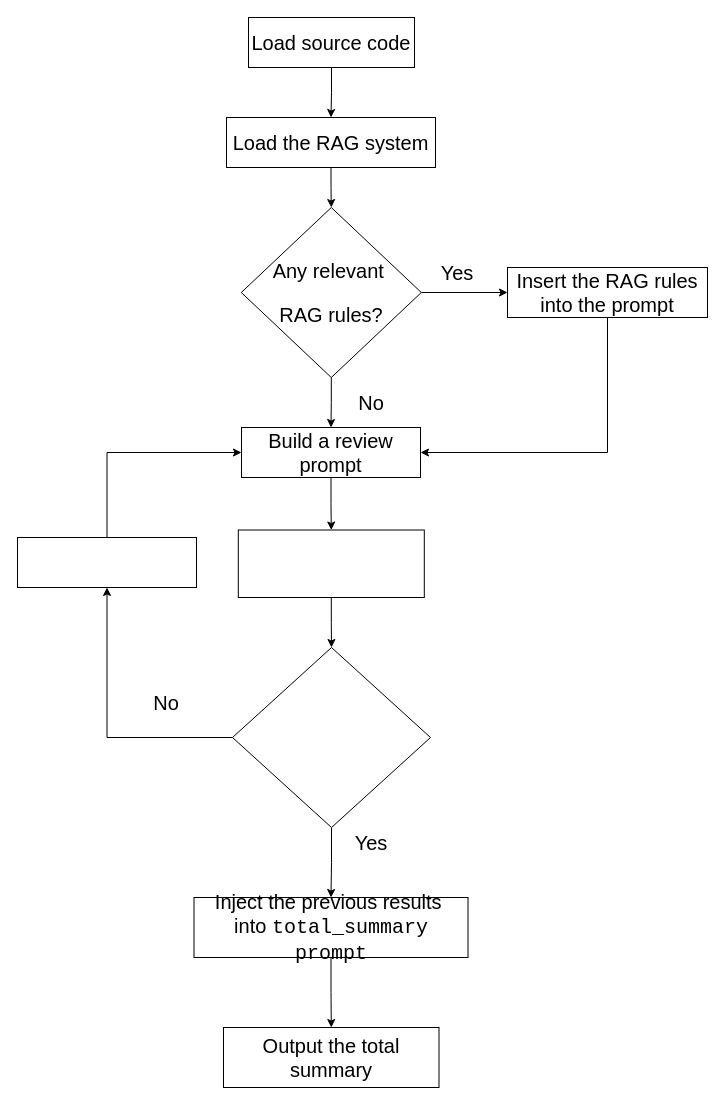
This 725x1105 diagram has some shape labels left out. Here are the shapes that lost their labels. From the top down, the centre of each, then its label:
the point at 106,562: Output the current code review results
the point at 330,563: Conduct a code review based on the prompt
the point at 331,737: Has the entire process been completed?
